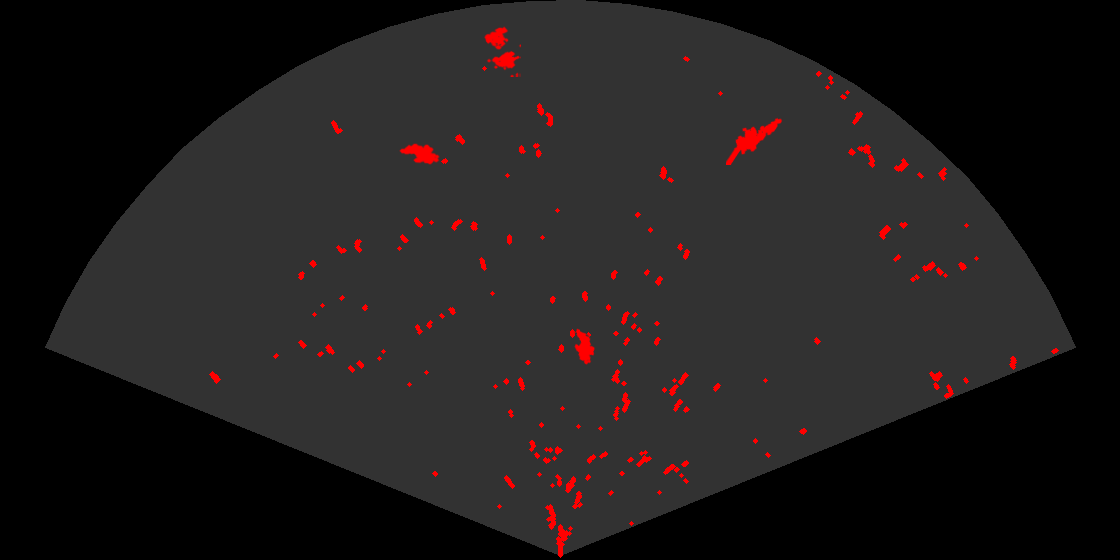AUV: (398, 142, 441, 166), (573, 327, 597, 366)
cage: (483, 25, 521, 77)
frogman: (726, 116, 784, 165)
